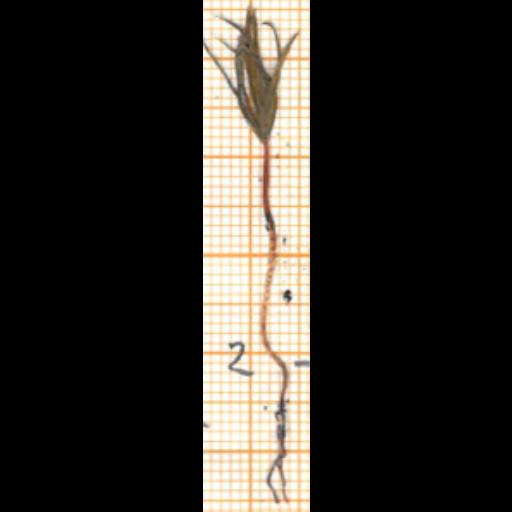flowerPinus: (209, 9, 298, 140)
rootPinus: (265, 347, 288, 505)
stemPinus: (261, 139, 276, 353)
